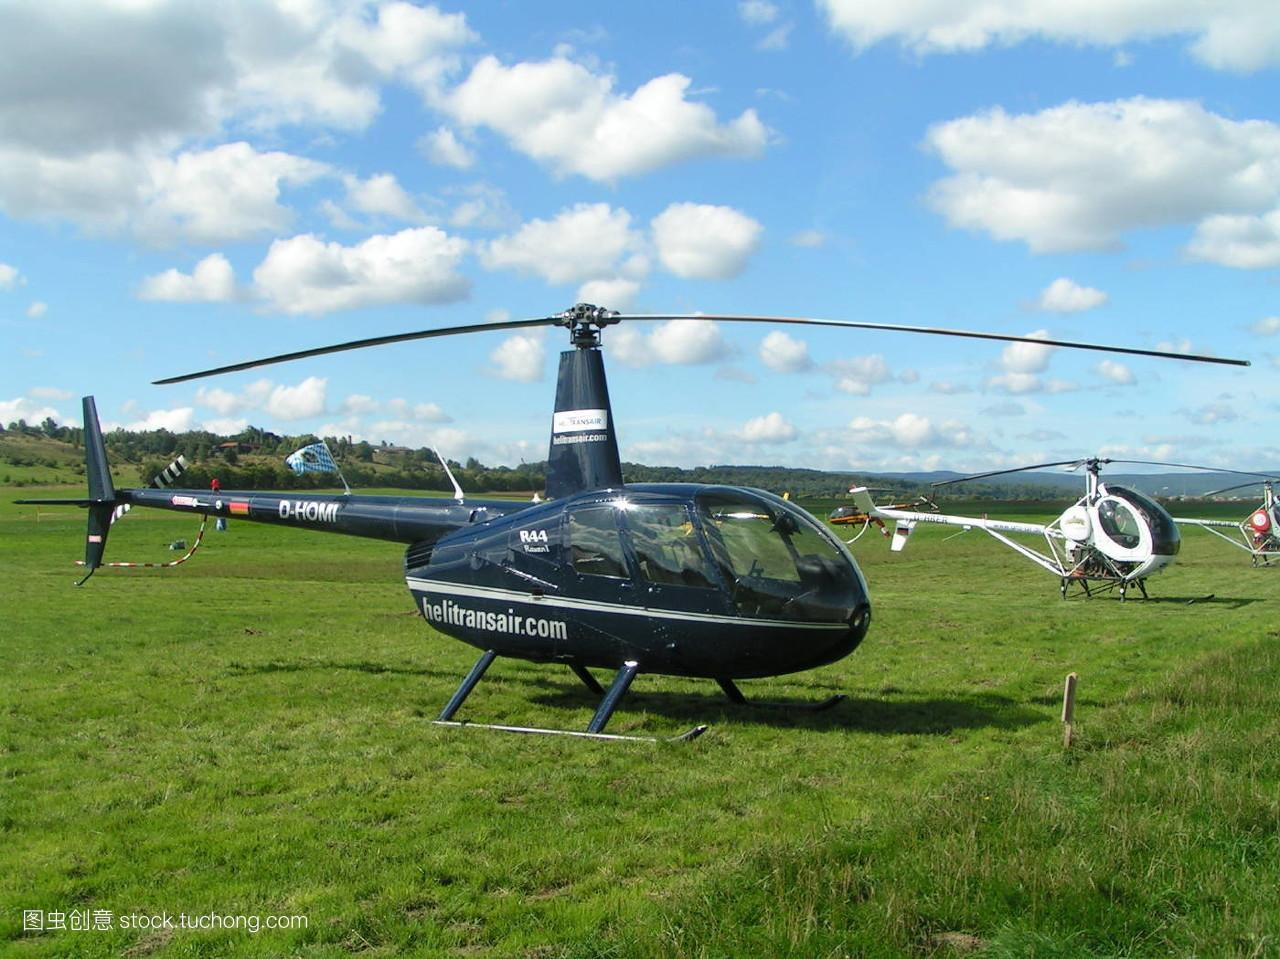airplane: (43, 285, 1263, 675), (796, 433, 1280, 587)
